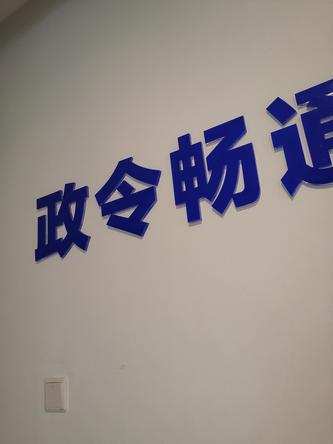switch: (44, 377, 69, 413)
